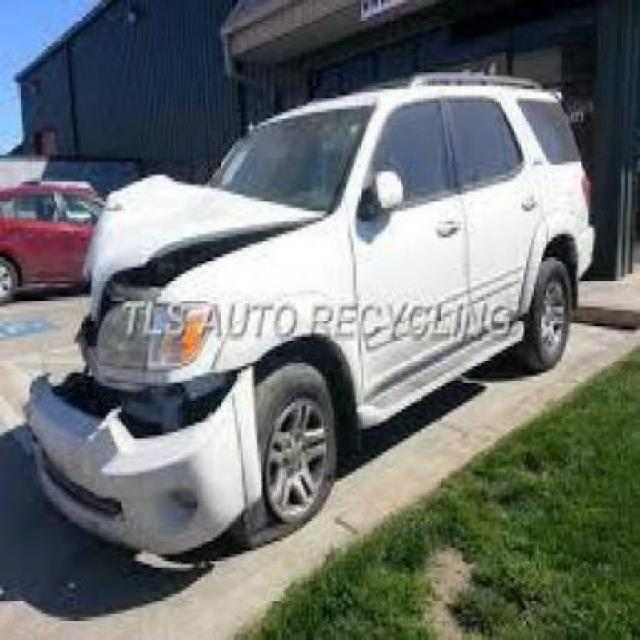damage: (27, 175, 254, 550)
